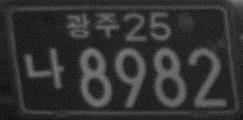2: (188, 46, 229, 110), (123, 12, 148, 43)
5: (148, 9, 173, 41)
8: (152, 45, 187, 108), (78, 46, 113, 108)
9: (114, 46, 146, 110)
광주_O: (63, 10, 120, 39)
나: (23, 47, 65, 91)
